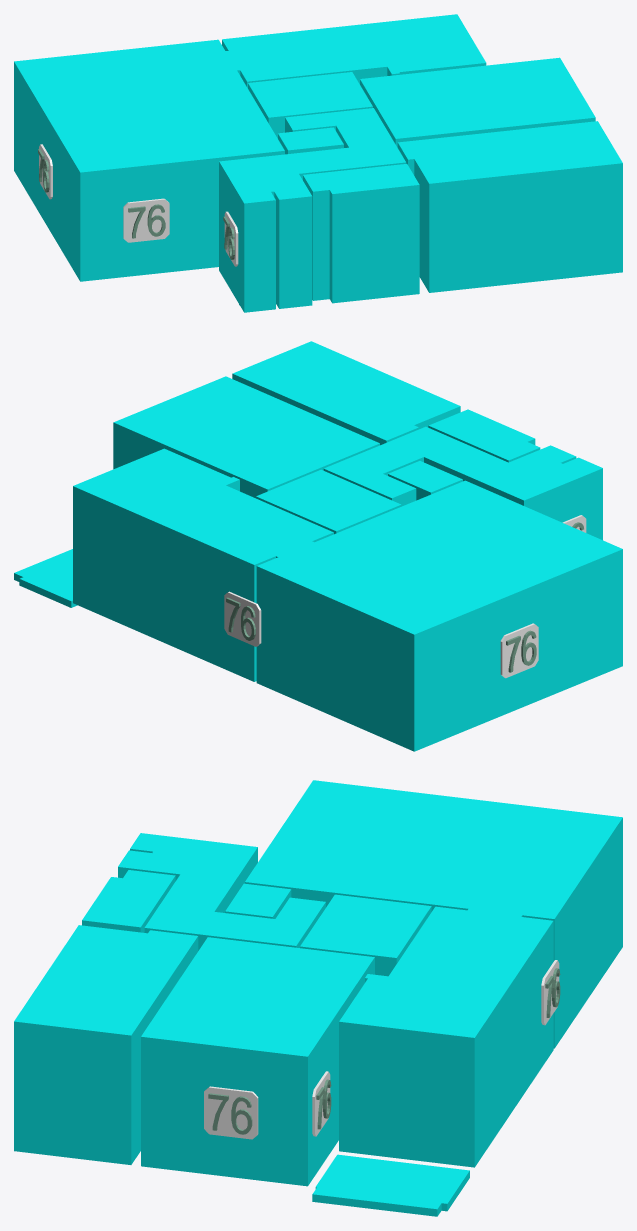
3 renders of one model, top to bottom at view 1: azimuth 30°, elevation 25°; view 2: azimuth 150°, elevation 25°; view 3: azimuth 270°, elevation 25°, orthographic. The views are drawn at different scales.
Parts seen in each view (by area): view 1: g_1, g_4, g_7, g_5, g_3, g_0, g_2, g_20, g_6; view 2: g_1, g_0, g_3, g_7, g_4, g_2, g_5, g_8, g_6, g_17, g_26; view 3: g_1, g_0, g_3, g_4, g_7, g_8, g_2, g_5, g_11, g_6.
Part boxes in pixels (x1,y1,x2,y2): g_1: (14,39,284,281); g_4: (397,121,622,292); g_7: (219,108,406,312); g_5: (303,164,419,303); g_3: (360,57,595,147); g_0: (222,14,486,88); g_2: (248,72,372,138); g_20: (123,198,169,242); g_6: (278,127,343,154); g_1: (256,480,622,751); g_0: (73,448,333,681); g_3: (113,376,379,498); g_7: (323,426,602,540); g_4: (232,341,460,445); g_2: (256,469,401,534); g_5: (428,409,540,462); g_8: (14,549,77,607); g_6: (388,461,462,500); g_17: (500,623,538,678); g_26: (224,591,261,646); g_1: (245,780,622,1048); g_0: (339,906,553,1167); g_3: (141,937,374,1186); g_4: (14,925,198,1164); g_7: (118,833,325,950); g_8: (312,1154,469,1216); g_2: (300,894,431,976); g_5: (82,870,175,932); g_11: (204,1086,258,1139); g_6: (225,883,291,918).
Bounding box in the file's own units: 12.73 × 2.74 × 10.96.
